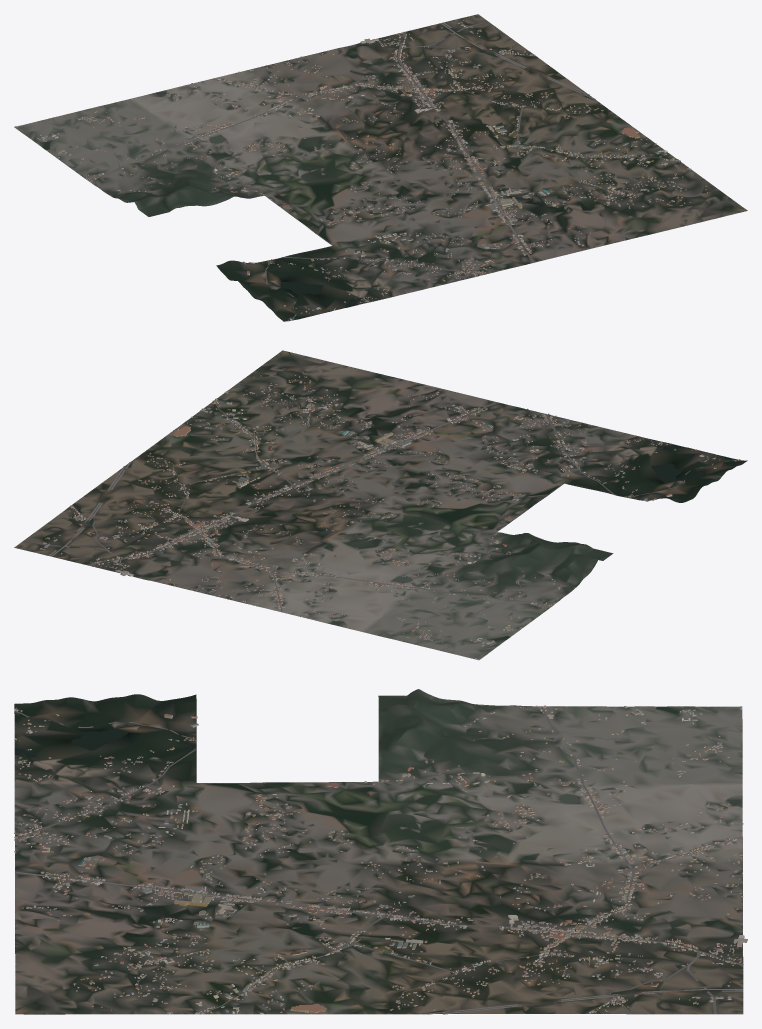
3 views of the same model, one above another, from view 1: azimuth 30°, elevation 25°; view 2: azimuth 150°, elevation 25°; view 3: azimuth 270°, elevation 25° (orthographic). The views are drawn at different scales.
Visible parts, largest first — view 1: ground, buildings, roads, water; view 2: ground, buildings, roads, water; view 3: ground, buildings, roads, water.
Boxes of the visible parts, left/top/right/bottom form: ground: left=14, top=14, right=747, bottom=321; buildings: left=14, top=20, right=707, bottom=320; roads: left=52, top=21, right=677, bottom=320; water: left=42, top=136, right=357, bottom=319; ground: left=14, top=350, right=747, bottom=660; buildings: left=35, top=372, right=742, bottom=659; roads: left=24, top=392, right=737, bottom=650; water: left=394, top=444, right=732, bottom=640; ground: left=14, top=689, right=743, bottom=1014; buildings: left=14, top=705, right=747, bottom=1014; roads: left=14, top=706, right=743, bottom=1014; water: left=14, top=706, right=679, bottom=828.
Size of the model in its own units: 5606 by 186 by 5654.
